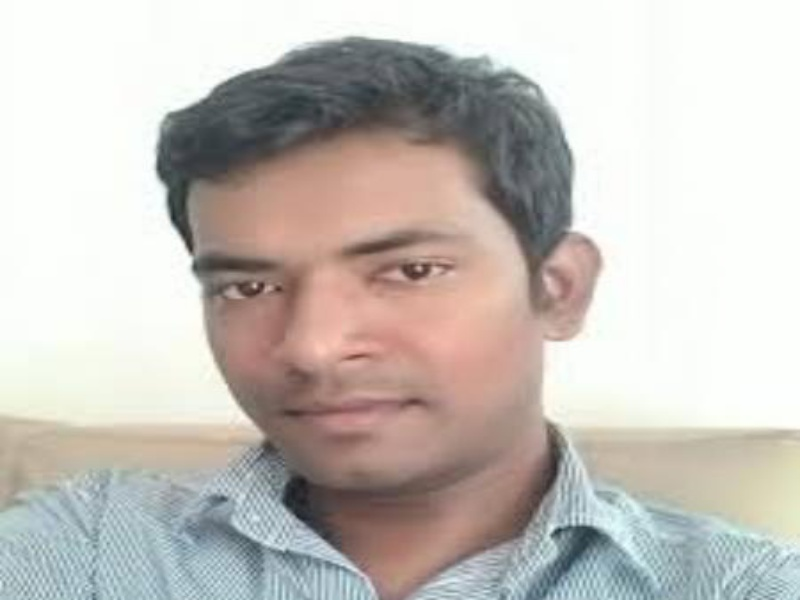TsisyArotava: (146, 46, 596, 535)
